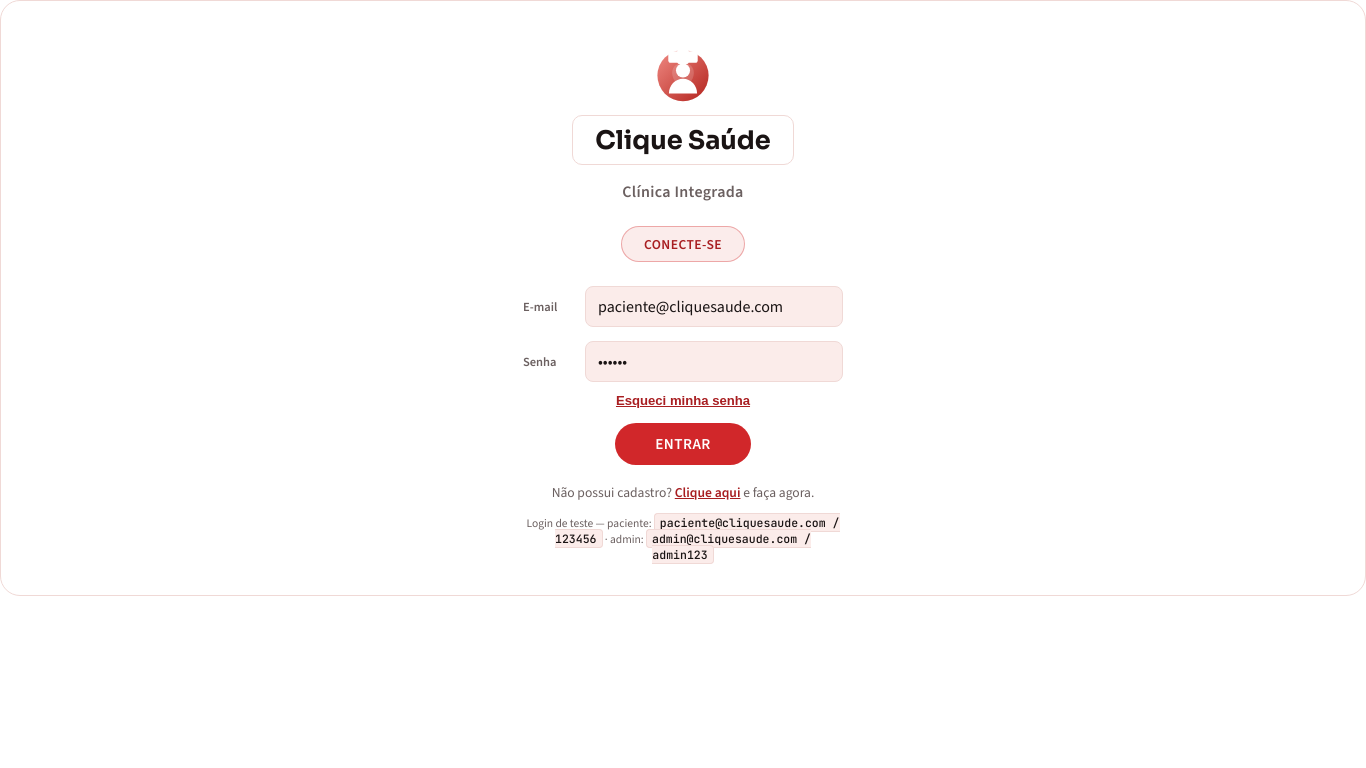
Test: Página Login › mostra o aviso ao clicar em 'Esqueci minha senha'
Expected: the text "ainda não implementada" is not shown
Click the button "Esqueci minha senha" at coordinates (683, 400), box x1=610 y1=392 x2=756 y2=409
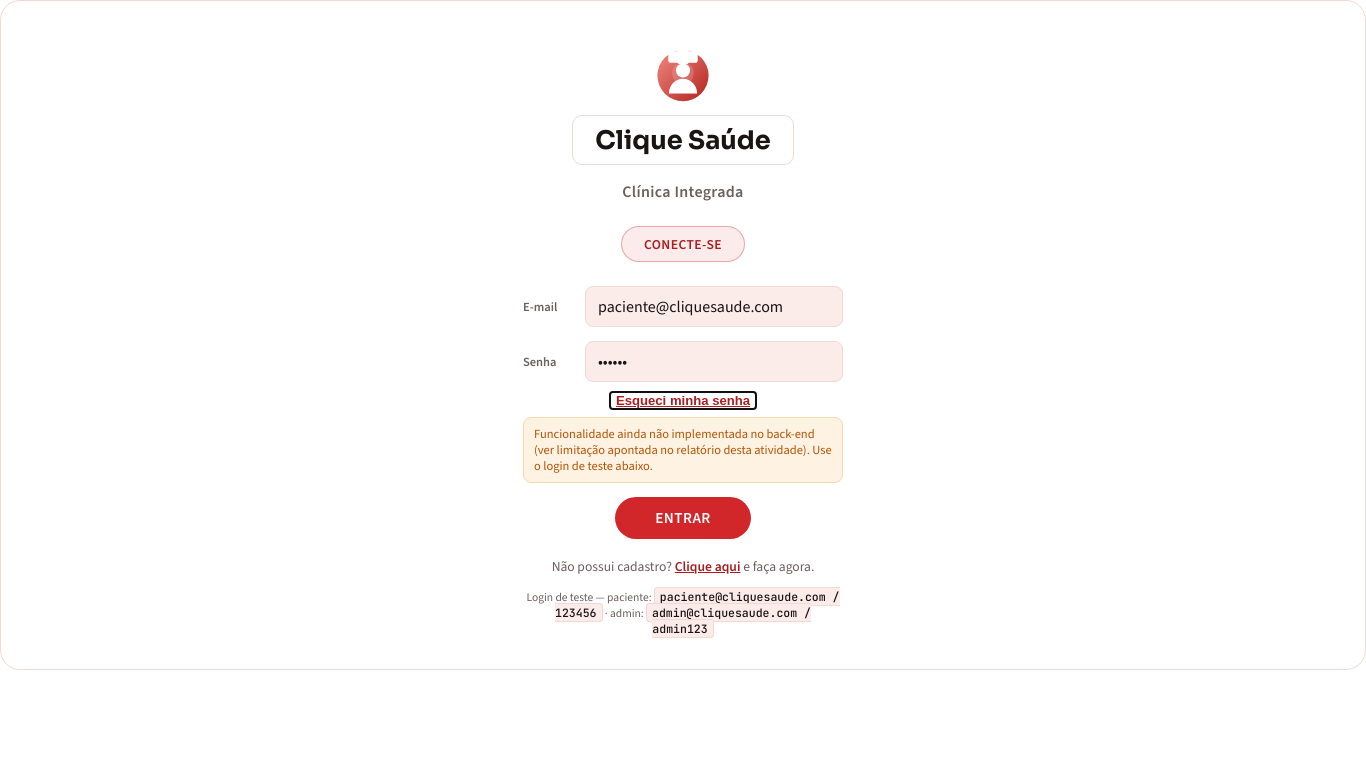
Now the text "ainda não implementada" is shown, box x1=534 y1=426 x2=832 y2=474
